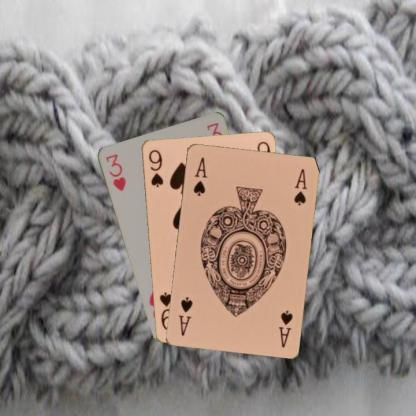3h: (103, 151, 127, 192)
9s: (146, 147, 164, 188)
As: (190, 154, 208, 197), (276, 308, 294, 348)
